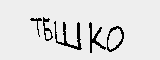Б: (40, 17, 55, 43)
К: (86, 20, 108, 53)
О: (105, 24, 127, 54)
Т: (29, 15, 44, 41)
Ш: (53, 19, 83, 49)
